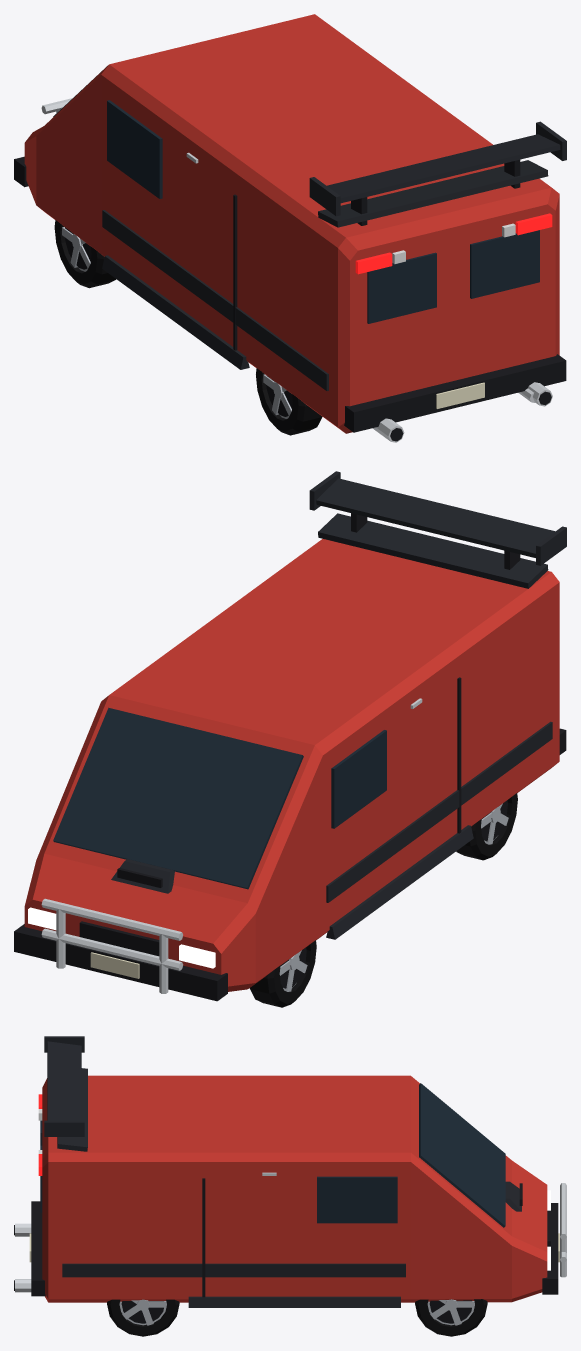
Rendered from van.glb.
3 renders of one model, top to bottom at view 1: azimuth 30°, elevation 25°; view 2: azimuth 150°, elevation 25°; view 3: azimuth 270°, elevation 25°, orthographic. The views are drawn at different scales.
Parts seen in each view (by area): view 1: van_Body, van_Top, van_Mod_Spoiler2, van_Mod_Spoiler1, van_Mod_Skirts, van_Wheel_RL, van_Wheel_FL, van_Mod_Exhaust; view 2: van_Body, van_Top, van_Mod_Spoiler2, van_Mod_Spoiler1, van_Mod_Bullbar, van_Mod_Skirts, van_Wheel_FL, van_Wheel_RL, van_Mod_Scoop; view 3: van_Body, van_Top, van_Mod_Spoiler2, van_Mod_Skirts, van_Wheel_FR, van_Wheel_RR, van_Mod_Spoiler1, van_Mod_Bullbar, van_Mod_Exhaust, van_Mod_Scoop.
Boxes of the visible parts, <box> form: van_Body: <box>24,14,559,433</box>; van_Top: <box>14,66,566,432</box>; van_Mod_Spoiler2: <box>309,121,566,225</box>; van_Mod_Spoiler1: <box>318,160,548,227</box>; van_Mod_Skirts: <box>102,255,249,369</box>; van_Wheel_RL: <box>256,368,322,435</box>; van_Wheel_FL: <box>54,220,116,288</box>; van_Mod_Exhaust: <box>372,382,552,442</box>; van_Body: <box>24,539,559,991</box>; van_Top: <box>14,677,566,1001</box>; van_Mod_Spoiler2: <box>309,471,566,569</box>; van_Mod_Spoiler1: <box>318,513,548,588</box>; van_Mod_Bullbar: <box>41,898,183,993</box>; van_Mod_Skirts: <box>326,825,473,939</box>; van_Wheel_FL: <box>249,940,316,1007</box>; van_Wheel_RL: <box>456,793,517,860</box>; van_Mod_Scoop: <box>111,859,174,893</box>; van_Body: <box>42,1075,547,1302</box>; van_Top: <box>29,1083,559,1297</box>; van_Mod_Spoiler2: <box>44,1036,84,1136</box>; van_Mod_Skirts: <box>188,1296,400,1307</box>; van_Wheel_FR: <box>415,1299,487,1336</box>; van_Wheel_RR: <box>107,1299,179,1336</box>; van_Mod_Spoiler1: <box>57,1068,87,1151</box>; van_Mod_Bullbar: <box>560,1183,566,1277</box>; van_Mod_Exhaust: <box>14,1223,31,1292</box>; van_Mod_Scoop: <box>505,1181,522,1211</box>.
Size of the model in its own units: 2.04 by 2.38 by 5.48.
